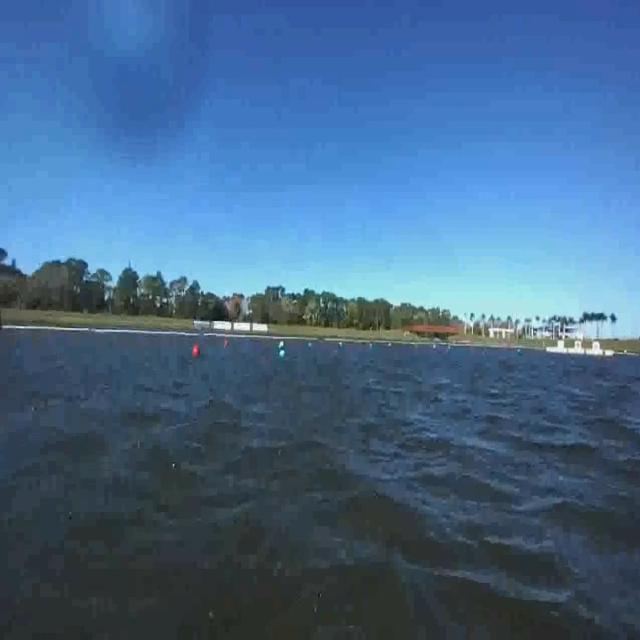green-buoy: (278, 345, 286, 363)
red-buoy: (192, 344, 199, 358)
